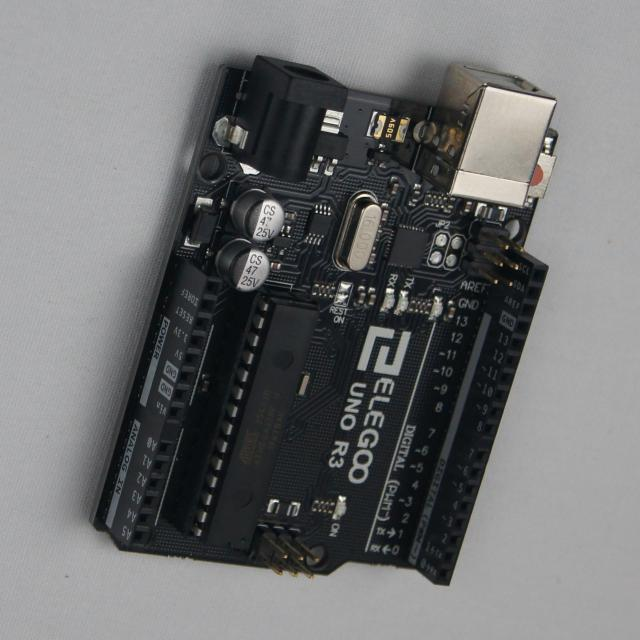Arduino Uno -Black-: (96, 57, 558, 585)
